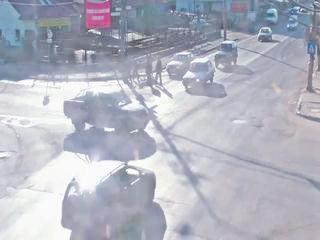Car: (68, 161, 155, 231), (65, 90, 149, 134), (186, 60, 214, 91), (167, 53, 194, 76), (216, 43, 236, 67), (258, 26, 272, 43), (265, 9, 276, 24), (288, 16, 296, 31), (291, 7, 300, 16)
Not Accident: (166, 52, 215, 92)
